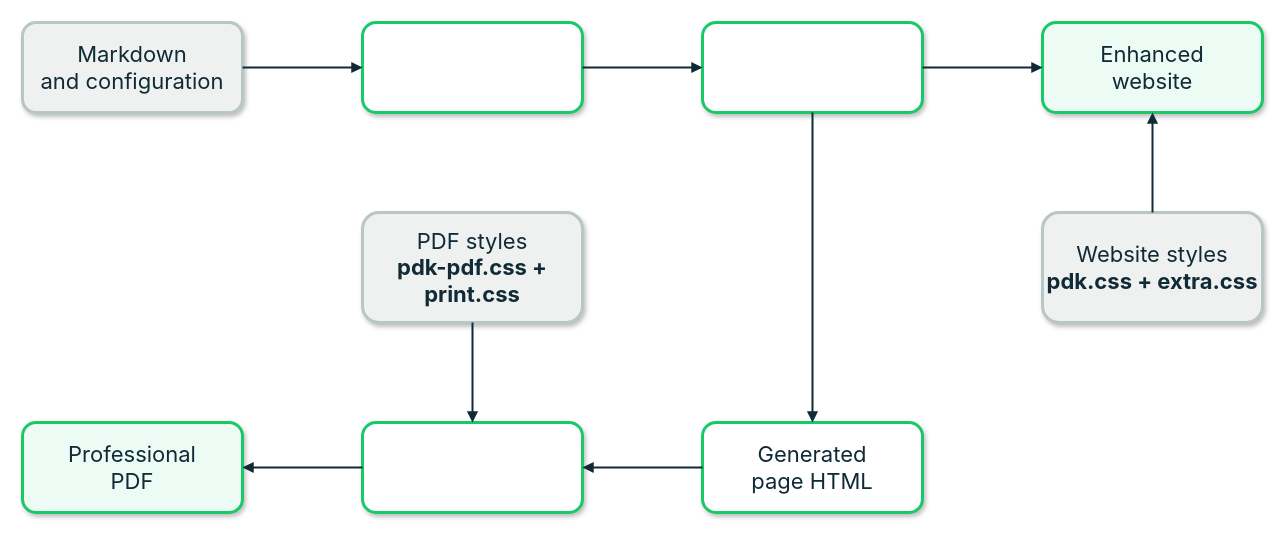
Some shapes in this 1287 by 538 pixel diagram are drawn without their labels. The shapes that lost their labels are listed below. From the top down, each one's centre as x and y in pixels, then its label:
At pixel 473 68: "Python-Markdown prodockit + PyMdown".
At pixel 813 68: "Zensical build and macros".
At pixel 473 468: "prodockit PDF pipeline".
